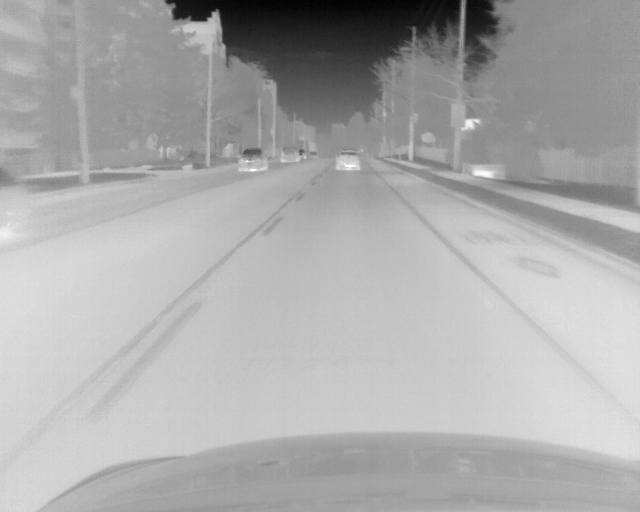car: (1, 163, 34, 238), (235, 146, 268, 173), (334, 149, 360, 173), (280, 147, 298, 163), (299, 149, 308, 161)
